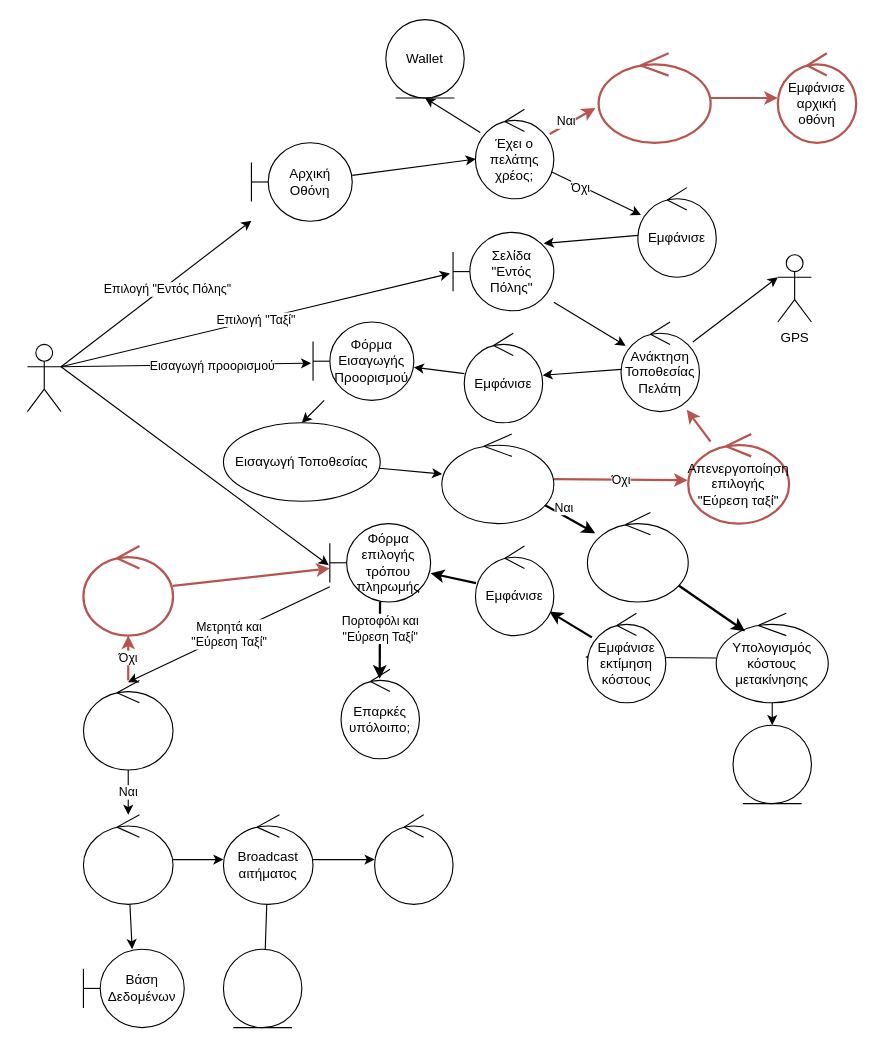
Image size: 877x1056. Some labels were removed from this diagram. The shapes that lost their labels are listed below. From the top down, each one's box as (x1, y1, x2, y2) in pixels, then its label:
(597, 52, 711, 143): Προειδοποιητικό μήνυμα
(26, 343, 61, 412): Πελάτης
(441, 433, 554, 524): Έχουν συμπληρωθεί οι τοποθεσίες;
(586, 511, 688, 602): Ενεργοποίηση επιλογής "Εύρεση ταξί"
(82, 544, 174, 636): Μήνυμα σφάλματος
(82, 679, 173, 770): Έγκυρος τρόπος πληρωμής;
(732, 724, 811, 804): Location
(82, 814, 173, 904): Αποθήκευση αιτήματος
(374, 814, 453, 904): Μήνυμα αναμονής
(222, 948, 302, 1028): TaxiRequest
